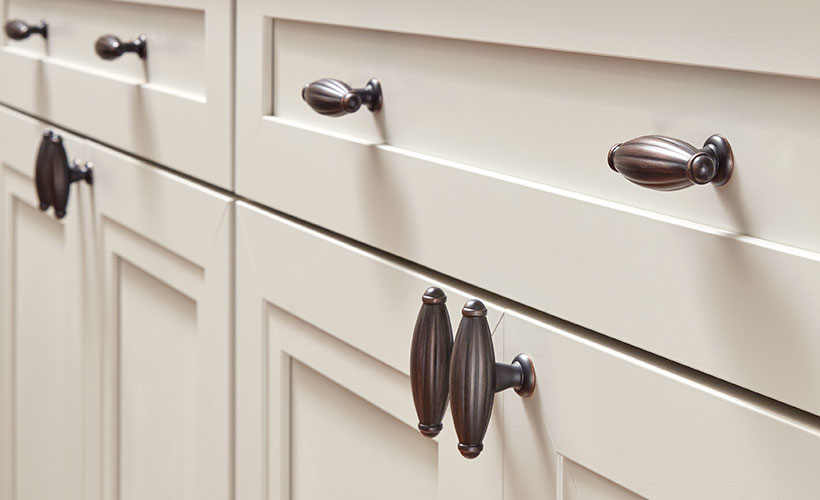cabinet door: (274, 42, 813, 239), (65, 149, 220, 500), (259, 262, 473, 500), (482, 327, 735, 500), (2, 15, 223, 124), (10, 130, 72, 500)
handle: (381, 283, 456, 444), (453, 290, 509, 465), (602, 140, 751, 197), (31, 123, 76, 230), (279, 79, 390, 115), (83, 29, 155, 64), (7, 19, 54, 40)
